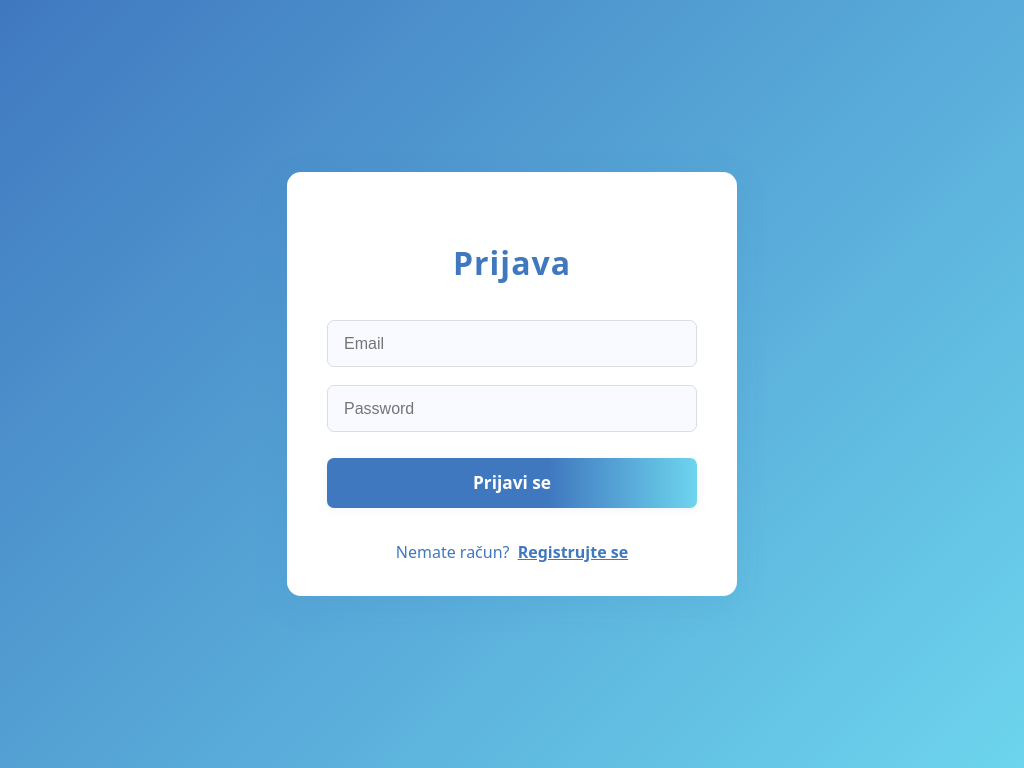
Test: Auth Flow › shows error on wrong login credentials
The width and height of the screenshot is (1024, 768).
Type "wrong@example.com" into the field named "email" at [512, 344], box [327,320,697,367]
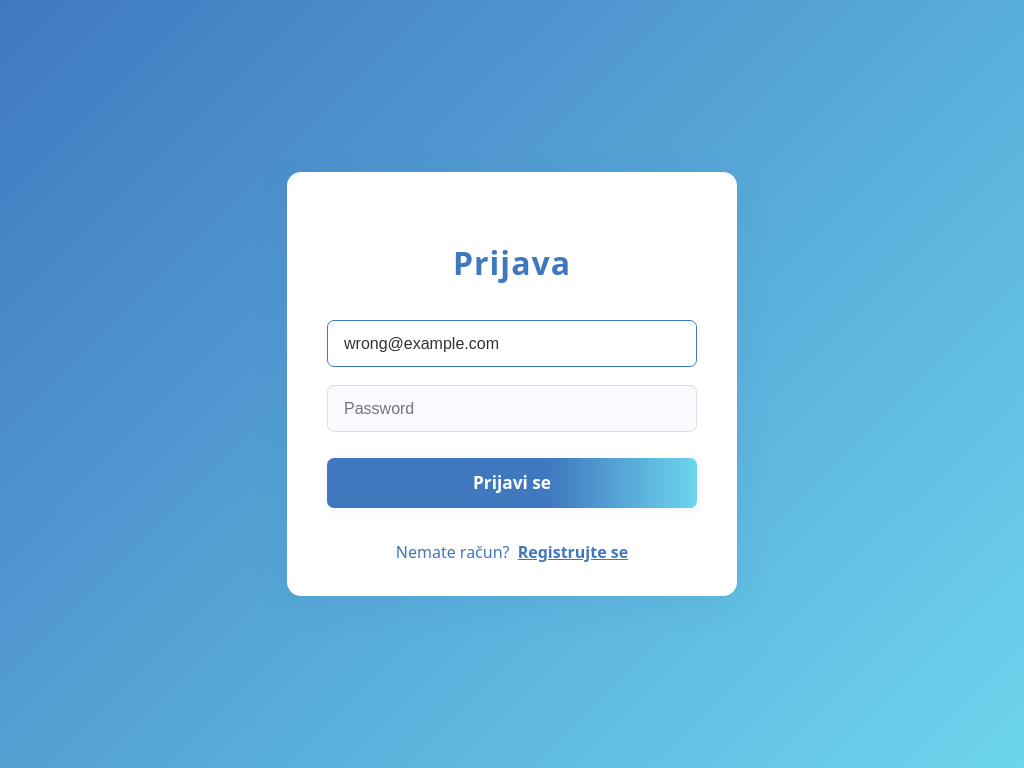
Type "wrongpass" into the password field named "password" at [512, 409], box [327,385,697,432]
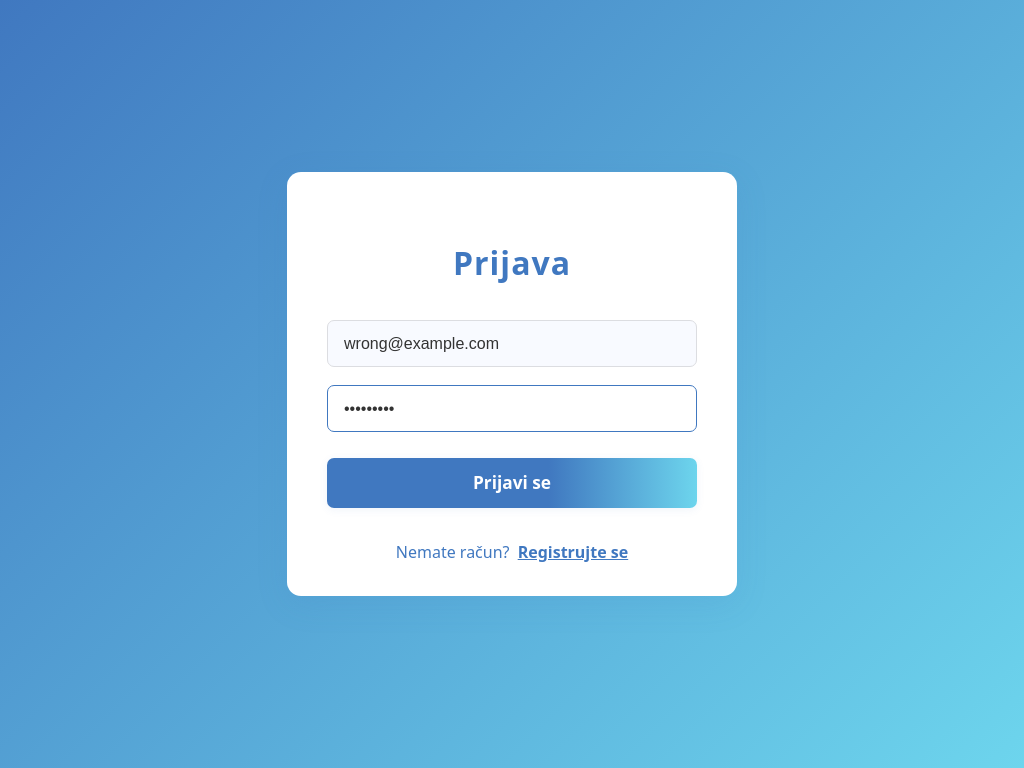
Click the submit button at [512, 483], box [327,458,697,508]
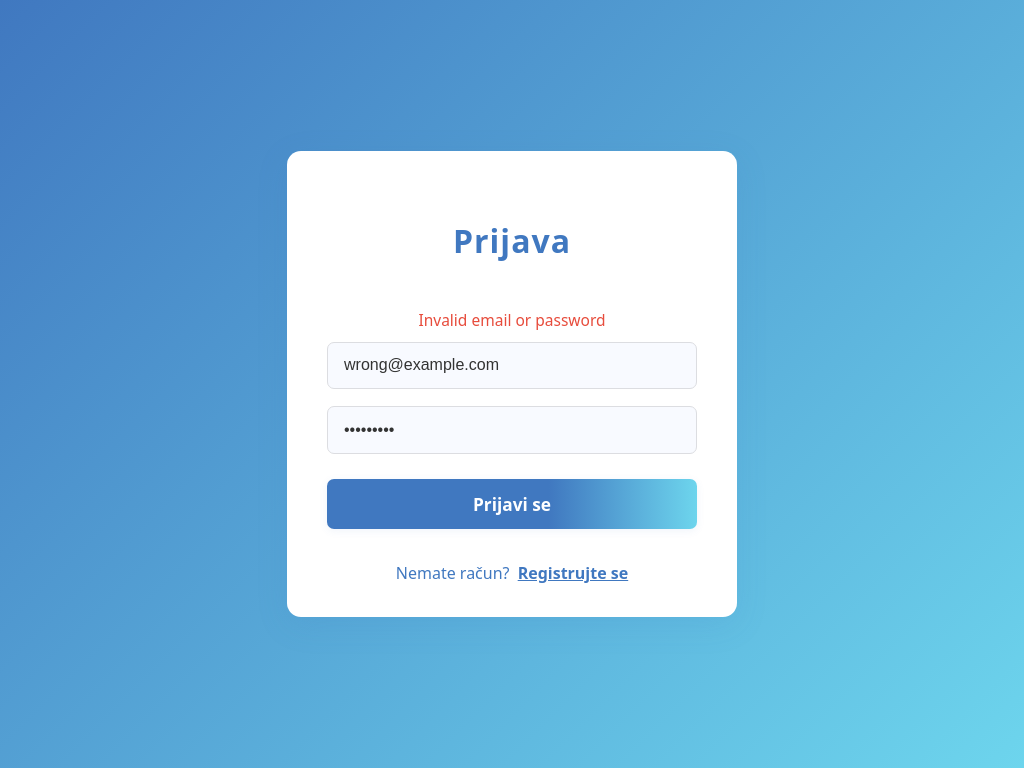
Expected: the text "Invalid email or password" is shown, [418,309,606,331]
